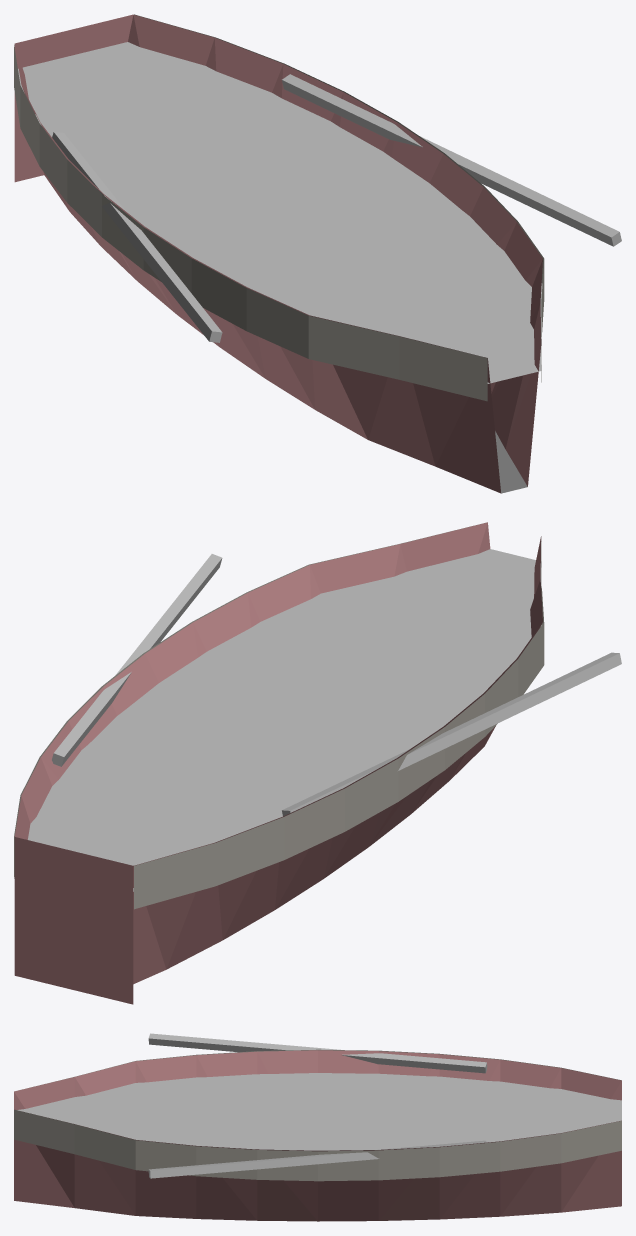
The model's file is rowboat.glb.
3 renders of one model, top to bottom at view 1: azimuth 30°, elevation 25°; view 2: azimuth 150°, elevation 25°; view 3: azimuth 270°, elevation 25°, orthographic. The views are drawn at different scales.
Parts seen in each view (by area): view 1: rowboat; view 2: rowboat; view 3: rowboat.
Part boxes in pixels (x1,y1,x2,y2): rowboat: (14, 14, 621, 493); rowboat: (14, 522, 621, 1004); rowboat: (14, 1033, 621, 1221).
Bounding box in the file's own units: 2.49 × 0.8 × 4.6.
